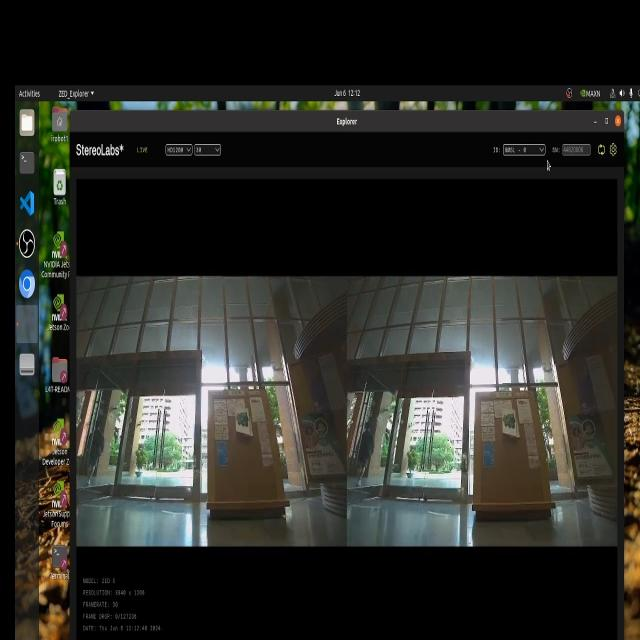green: (502, 414, 518, 439), (238, 405, 248, 439)
